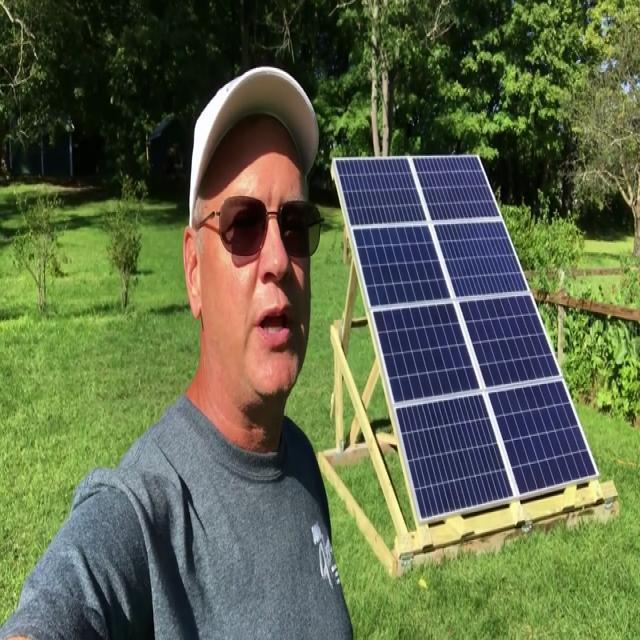Normal Solar Panel: (334, 155, 597, 524)
